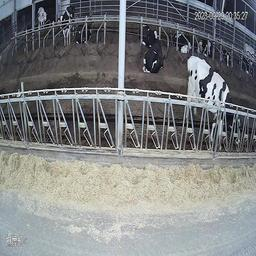cow: (188, 54, 246, 137), (143, 32, 165, 72), (56, 12, 72, 49), (75, 20, 94, 49), (173, 30, 192, 57), (197, 35, 213, 60), (243, 40, 255, 69), (36, 4, 47, 30)
